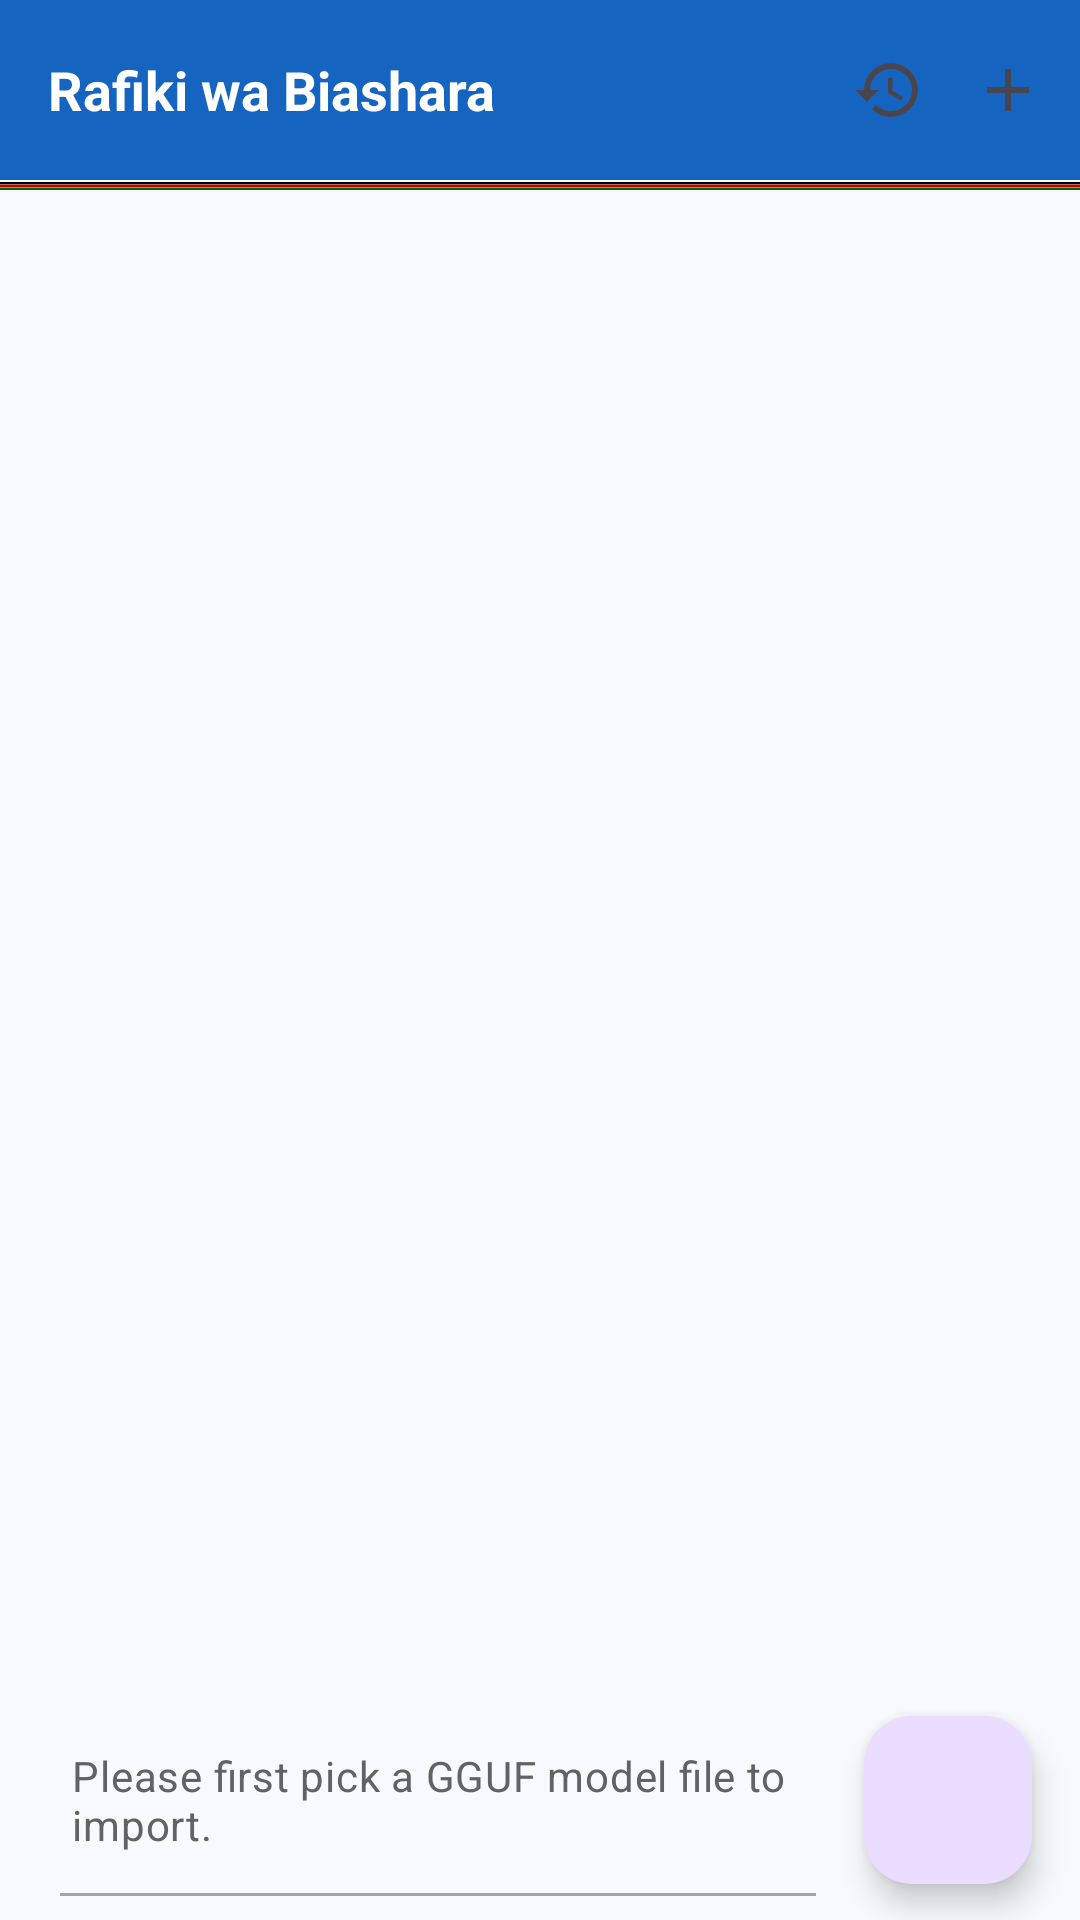

Named icons in this screenshot (1080*1920) and their bounding boxes, bbox=[x1, y1, x2, y2]:
History: bbox=[855, 63, 918, 117]
New chat: bbox=[987, 69, 1029, 111]
